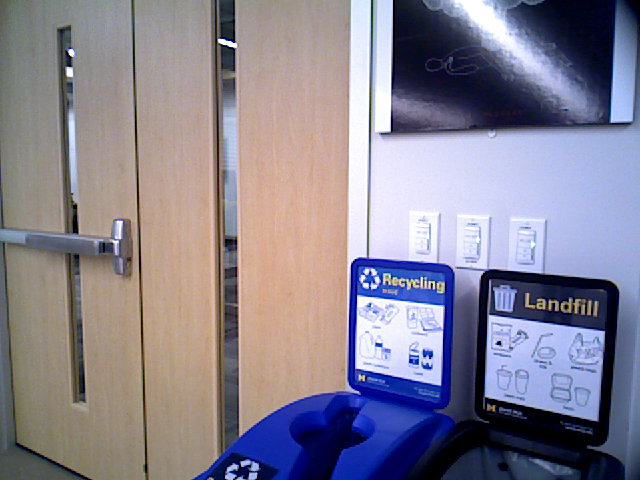painting1: (375, 1, 640, 133)
